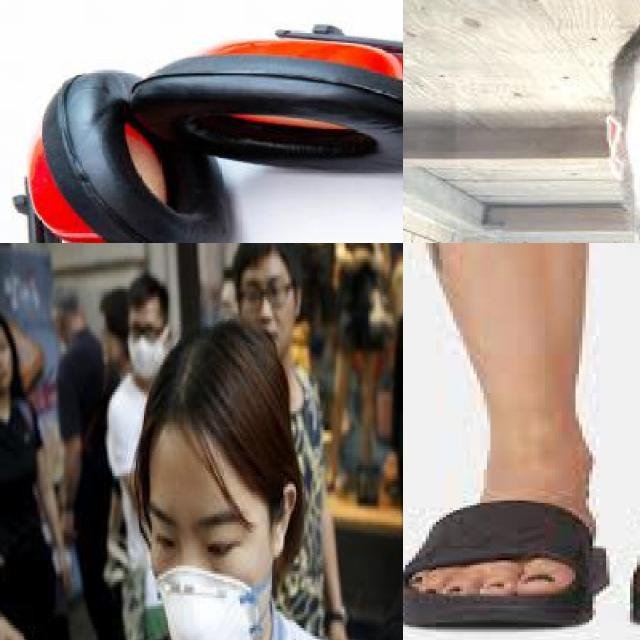Ear-protection: (34, 29, 403, 243)
No_Ear-Protection: (591, 101, 640, 191)
Sandals: (403, 448, 606, 628)
face_mask: (148, 492, 273, 640), (125, 314, 166, 378)
face_nomask: (240, 264, 294, 356), (0, 332, 11, 394)
glasses: (237, 275, 293, 316)
hand_noglove: (54, 538, 74, 590), (0, 614, 30, 640)
head_nohelmet: (146, 335, 278, 465), (230, 243, 302, 274), (46, 286, 82, 341), (128, 268, 171, 314), (0, 310, 11, 327)
person: (107, 332, 371, 640), (223, 243, 358, 640), (456, 0, 640, 243), (46, 264, 127, 640), (0, 283, 61, 640), (374, 243, 403, 541)
